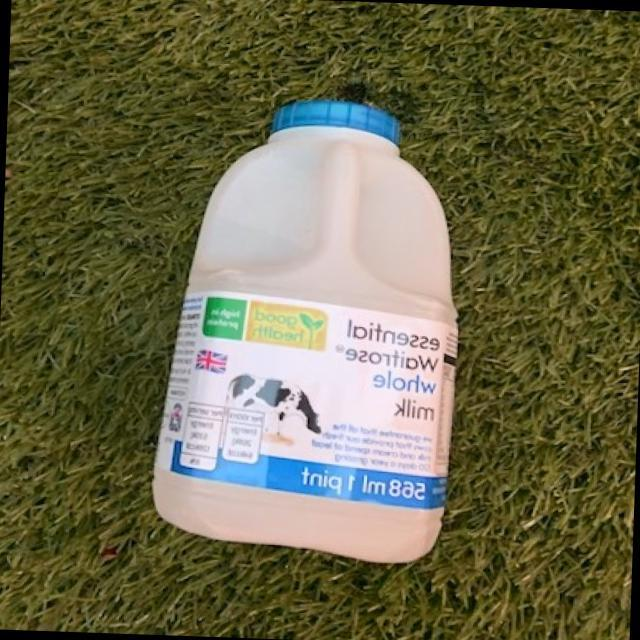HDPE Plastic: (150, 96, 462, 568)
